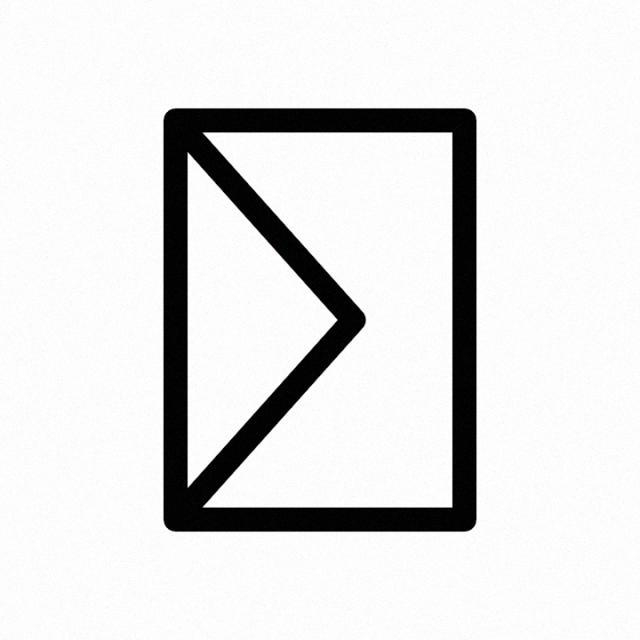letter: (158, 101, 482, 544)
